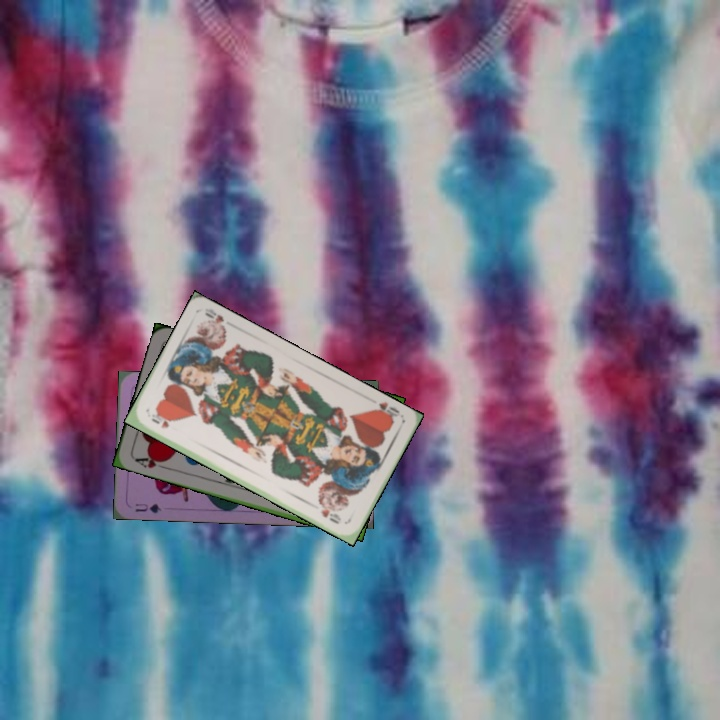GU: (131, 499, 163, 516)
HA: (131, 451, 170, 472)
HO: (368, 398, 402, 425), (147, 410, 172, 431)
